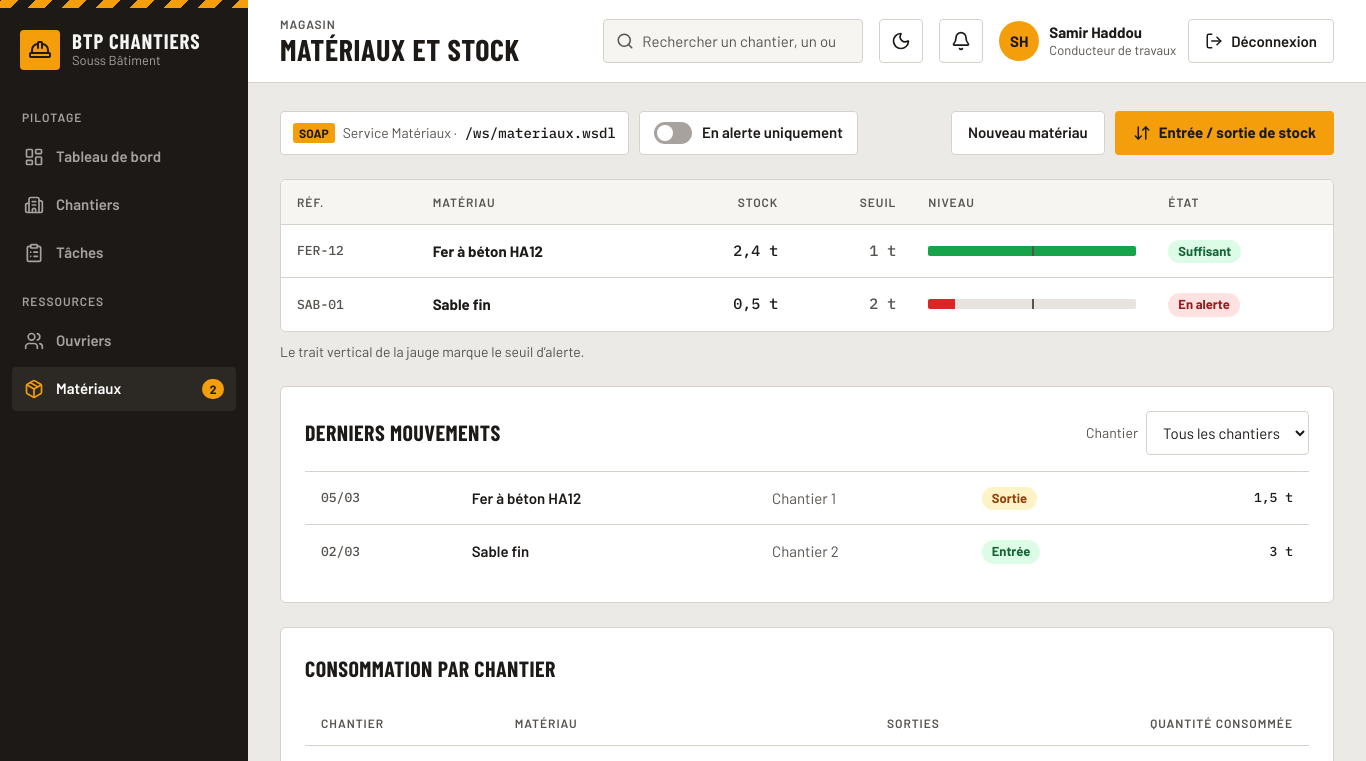
Test: Matériaux sur le web service SOAP réel › référence déjà utilisée (Conflit → 409) : message affiché dans le dialogue
Check: the text "FER-12" is shown, box [281,224,417,278]
Click the button "Nouveau matériau". click: (1028, 132)
box: [951,110,1105,154]
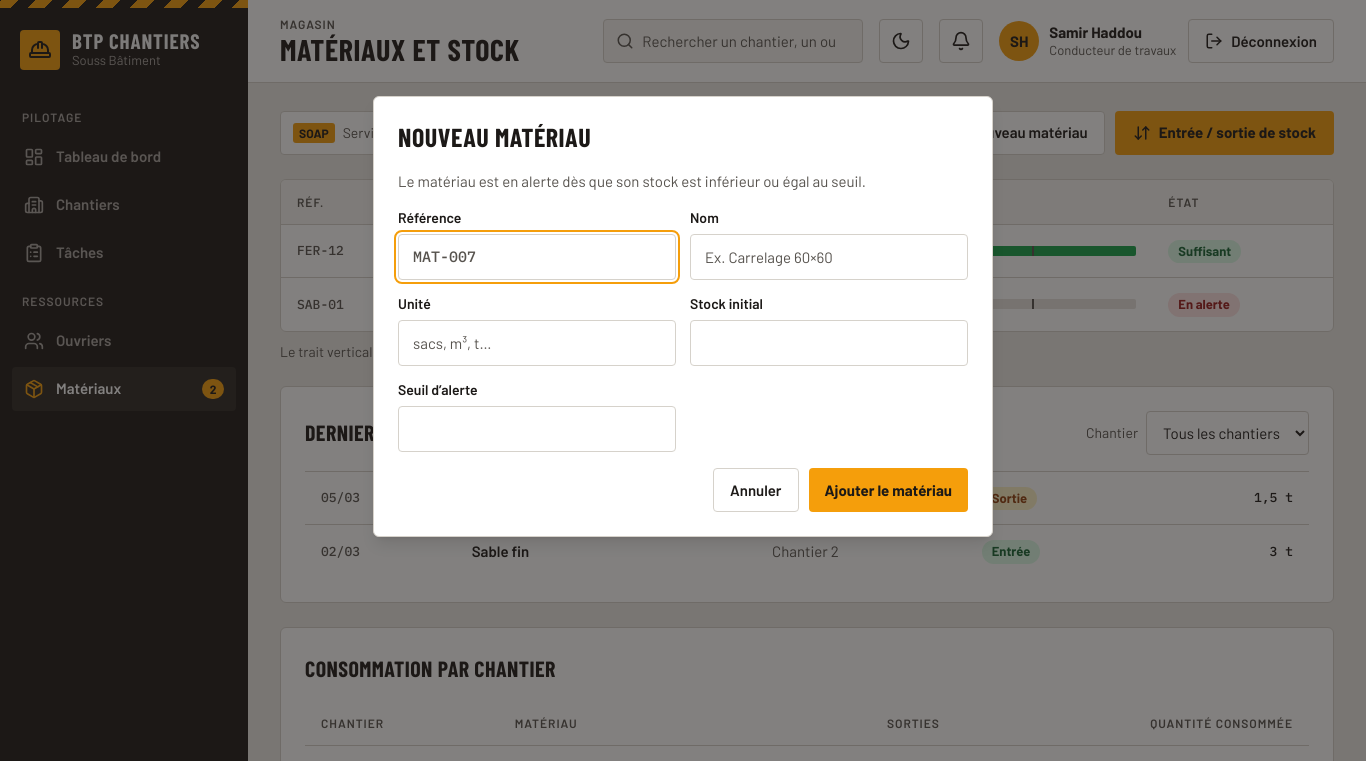
Type "MAT-003" into the field labelled "Référence". click: (537, 257)
box: [398,234,676,280]
Type "Fer" into the field labelled "Nom". click: (829, 257)
box: [690,234,968,280]
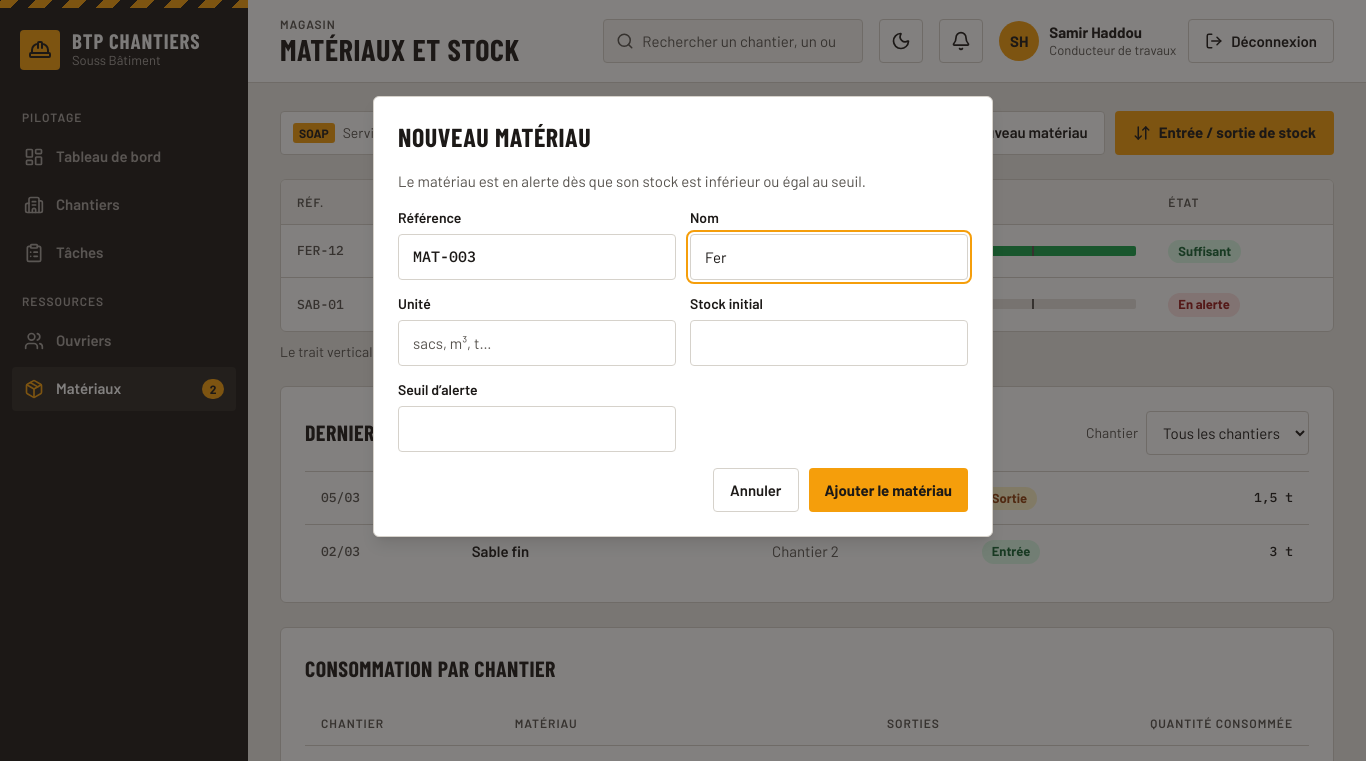
Type "t" into the field labelled "Unité". click: (537, 343)
box: [398,320,676,366]
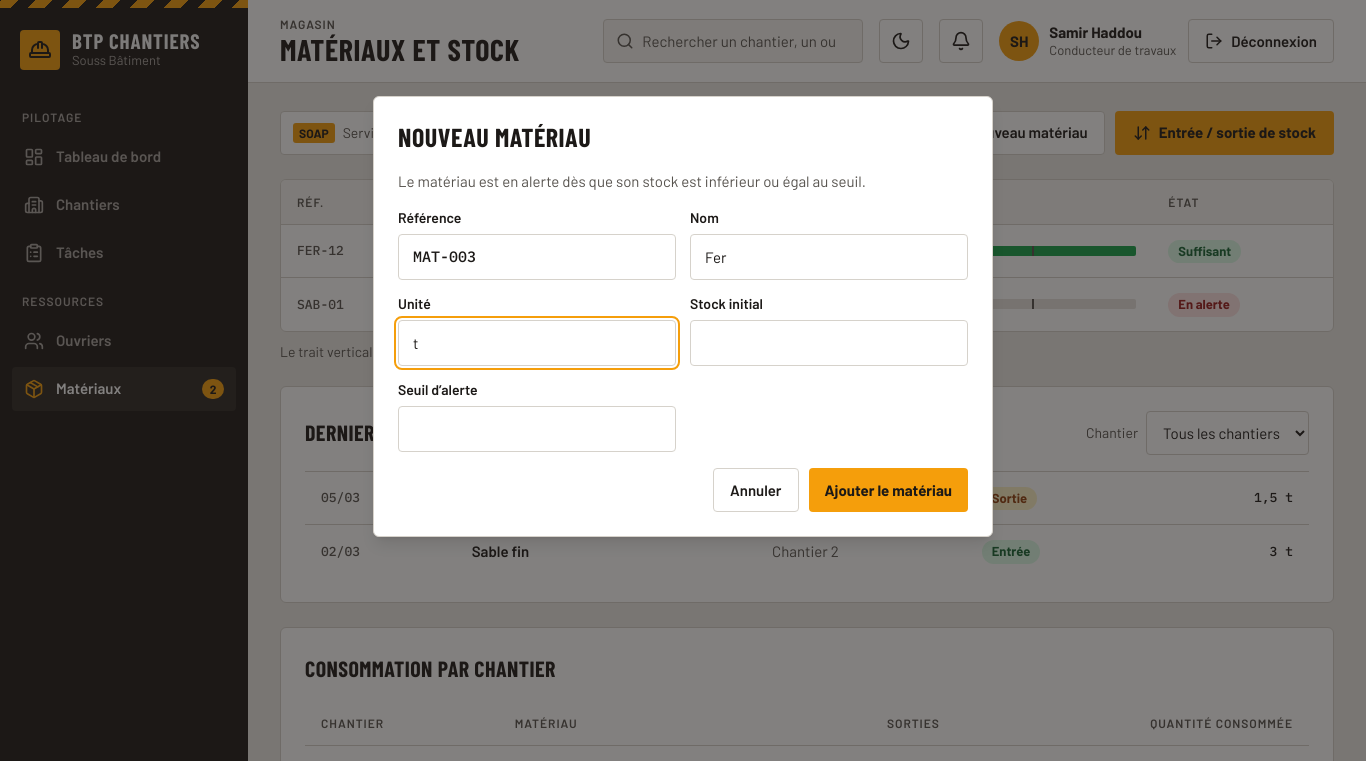
Type "1" into the number field labelled "Stock initial". click: (829, 343)
box: [690,320,968,366]
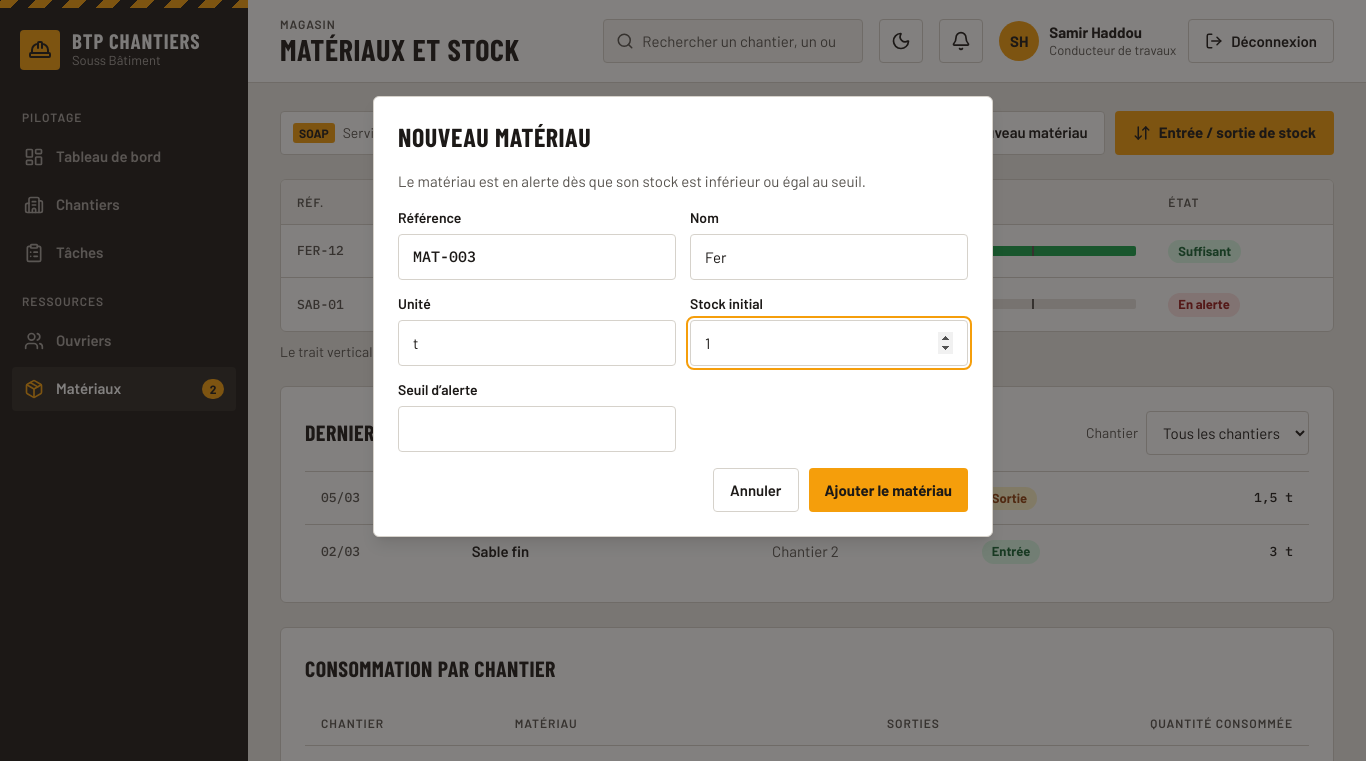
Type "0" into the number field labelled "Seuil d’alerte". click: (537, 429)
box: [398,406,676,452]
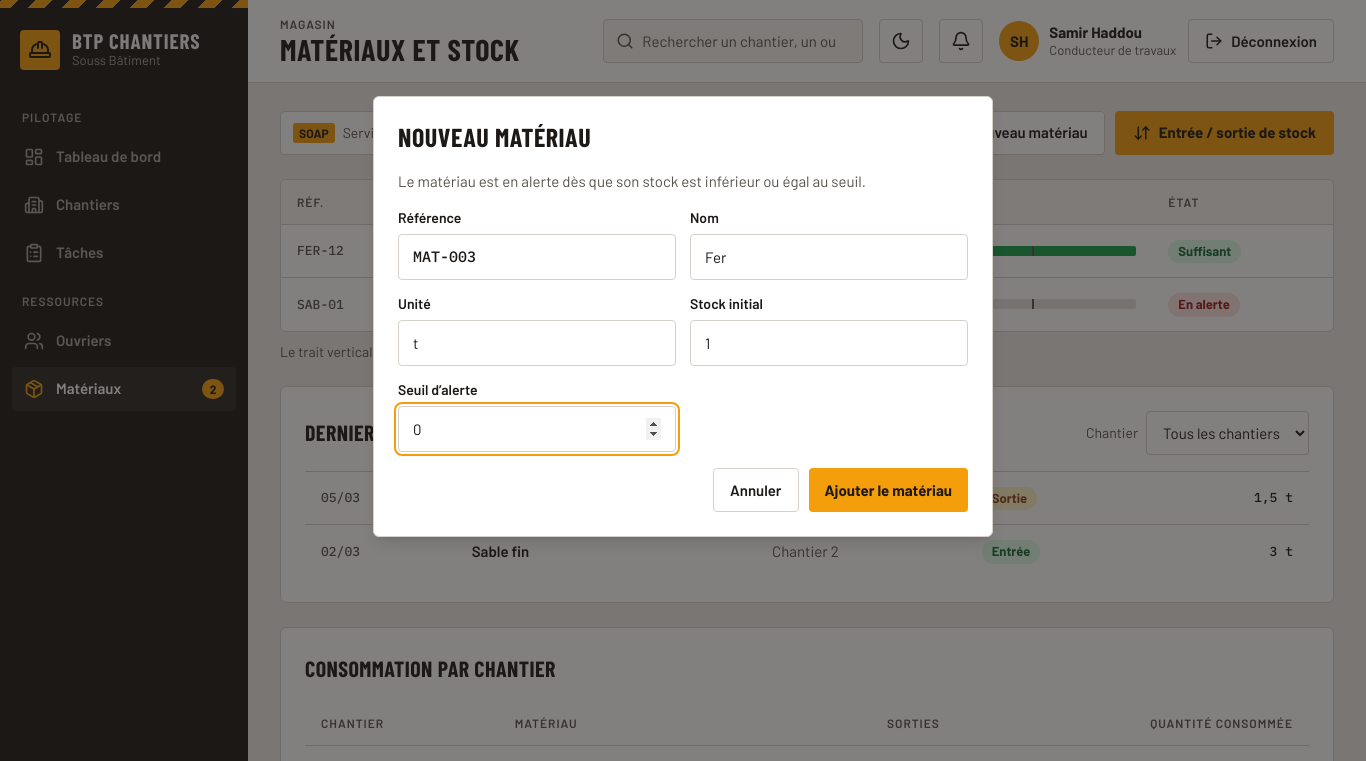
Click the button "Ajouter le matériau". click: (888, 490)
box: [808,468,968,512]
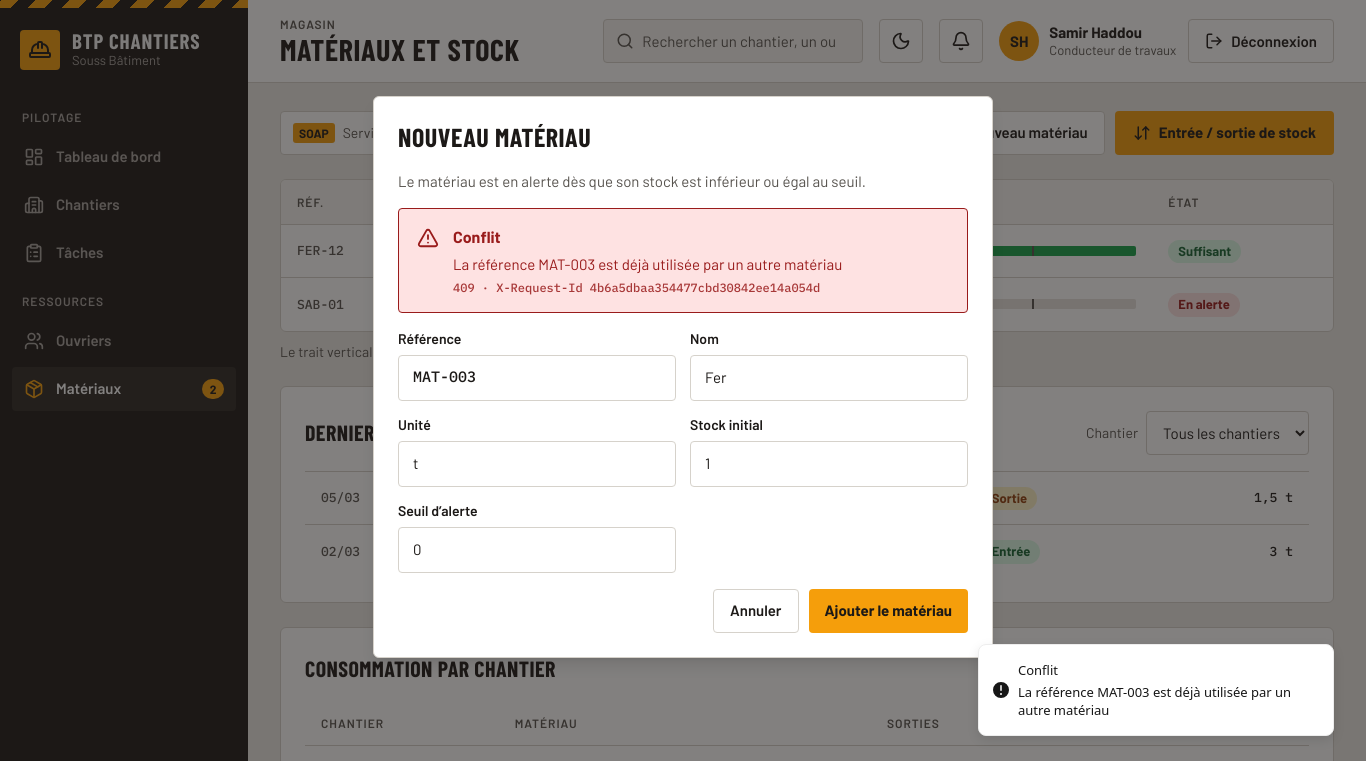
Check: the text "La référence MAT-003 est déjà utilisée par un autre matériau" is shown, box [453,253,842,276]
